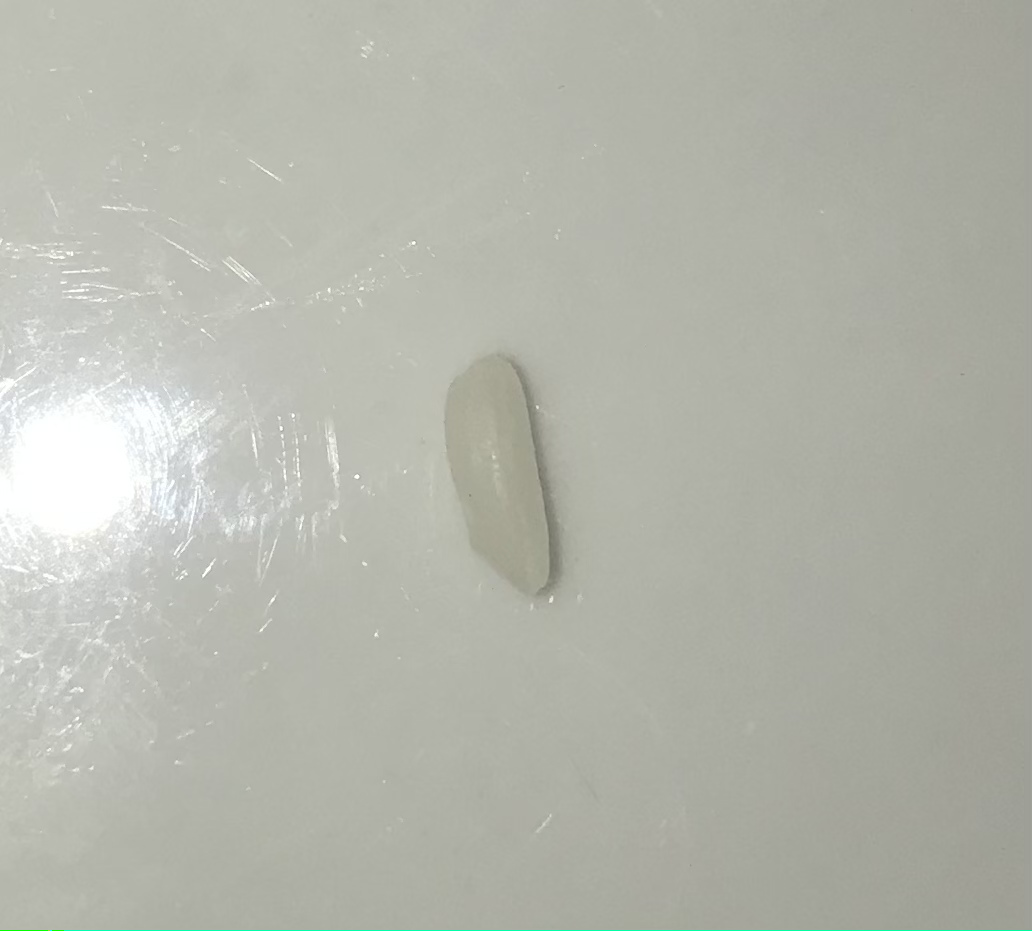Gao Thom Go Cong: (425, 350, 577, 604)
